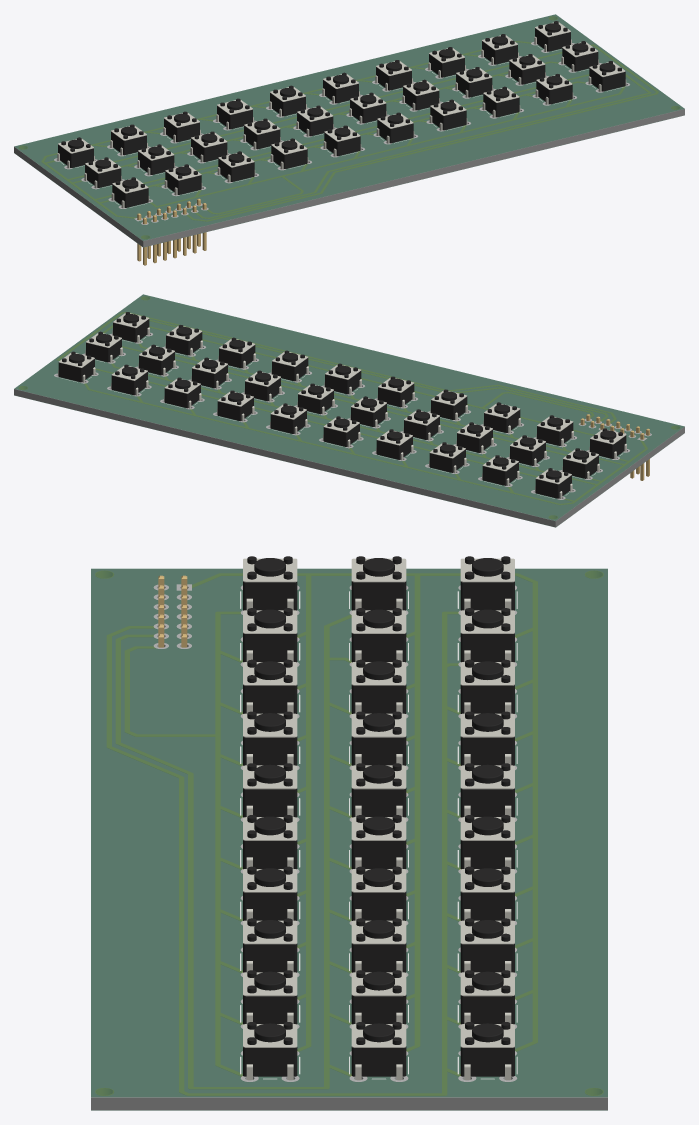
Rendered from teclado_matricial.glb.
The picture shows the model from 3 angles, top to bottom: view 1: azimuth 30°, elevation 25°; view 2: azimuth 150°, elevation 25°; view 3: azimuth 270°, elevation 25°; orthographic projection. The views are drawn at different scales.
Parts seen in each view (by area): view 1: =>[0:1:1:9], =>[0:1:1:11], REF** (×31), =>[0:1:1:4], =>[0:1:1:5], =>[0:1:1:7], =>[0:1:1:10]; view 2: =>[0:1:1:9], =>[0:1:1:11], REF** (×31), =>[0:1:1:4], =>[0:1:1:5], =>[0:1:1:7], =>[0:1:1:10]; view 3: =>[0:1:1:9], =>[0:1:1:11], REF** (×31), =>[0:1:1:4], =>[0:1:1:5], =>[0:1:1:7].
Boxes of the visible parts, x1,y1,x2,y2 form: =>[0:1:1:9]: (14, 14, 684, 240); =>[0:1:1:11]: (14, 15, 684, 247); REF** (×31): (57, 21, 626, 265); =>[0:1:1:4]: (42, 41, 657, 220); =>[0:1:1:5]: (54, 42, 629, 224); =>[0:1:1:7]: (61, 46, 623, 207); =>[0:1:1:10]: (14, 115, 684, 247); =>[0:1:1:9]: (14, 294, 684, 520); =>[0:1:1:11]: (14, 295, 684, 527); REF** (×31): (58, 312, 649, 498); =>[0:1:1:4]: (57, 312, 647, 504); =>[0:1:1:5]: (54, 332, 651, 499); =>[0:1:1:7]: (61, 337, 622, 498); =>[0:1:1:10]: (14, 395, 682, 527); =>[0:1:1:9]: (91, 568, 607, 1097); =>[0:1:1:11]: (91, 569, 607, 1110); REF** (×31): (158, 556, 514, 1080); =>[0:1:1:4]: (107, 574, 537, 1095); =>[0:1:1:5]: (153, 584, 517, 1081); =>[0:1:1:7]: (240, 591, 517, 1079).
Size of the model in its own units: 0.138 by 0.0145 by 0.057.
